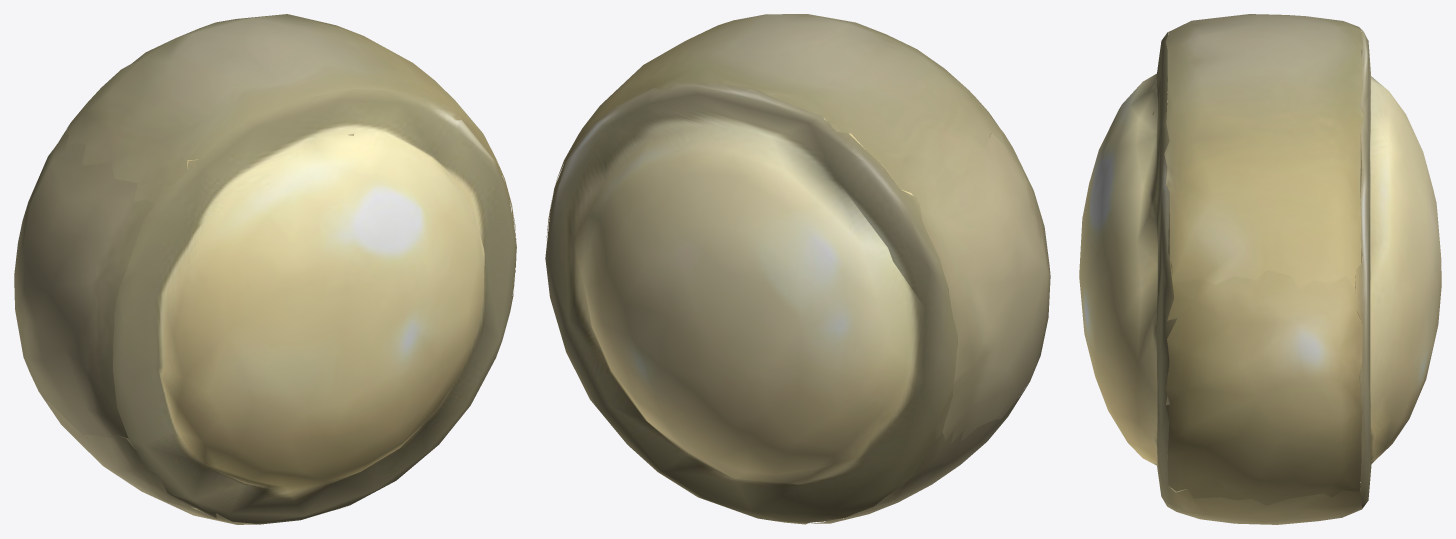
The model's file is pearl.glb.
3 views of the same model, side by side, from view 1: azimuth 30°, elevation 25°; view 2: azimuth 150°, elevation 25°; view 3: azimuth 270°, elevation 25° (orthographic).
Bounding box in the file's own units: 0.3001 × 0.299 × 0.2127.
1 material, 1 textured.
